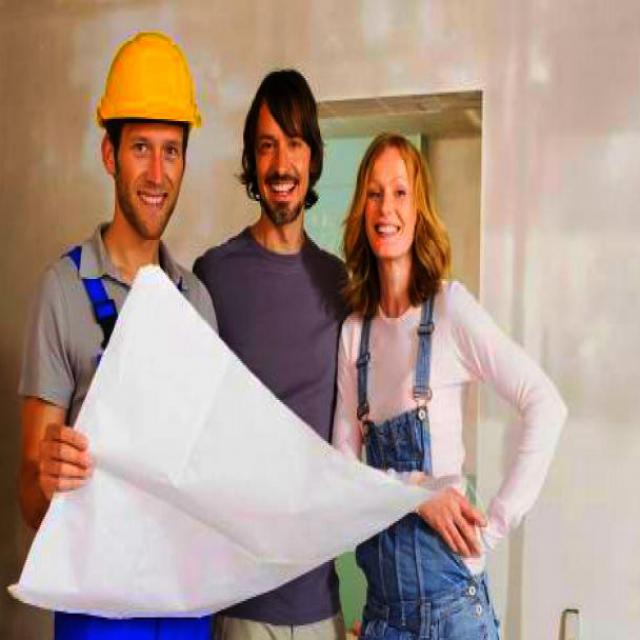helmet: (90, 20, 207, 256)
